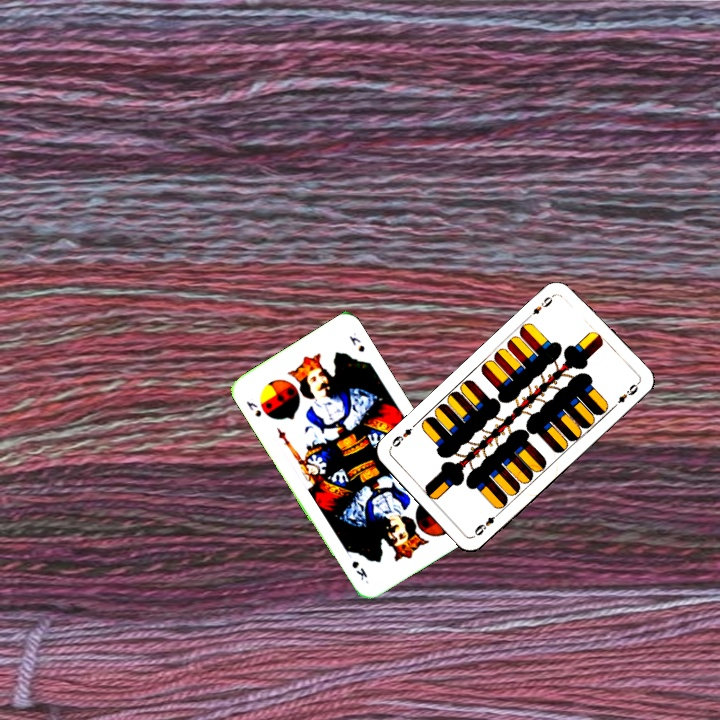E9: (524, 290, 558, 321), (470, 508, 503, 539)
SK: (242, 397, 264, 420)
